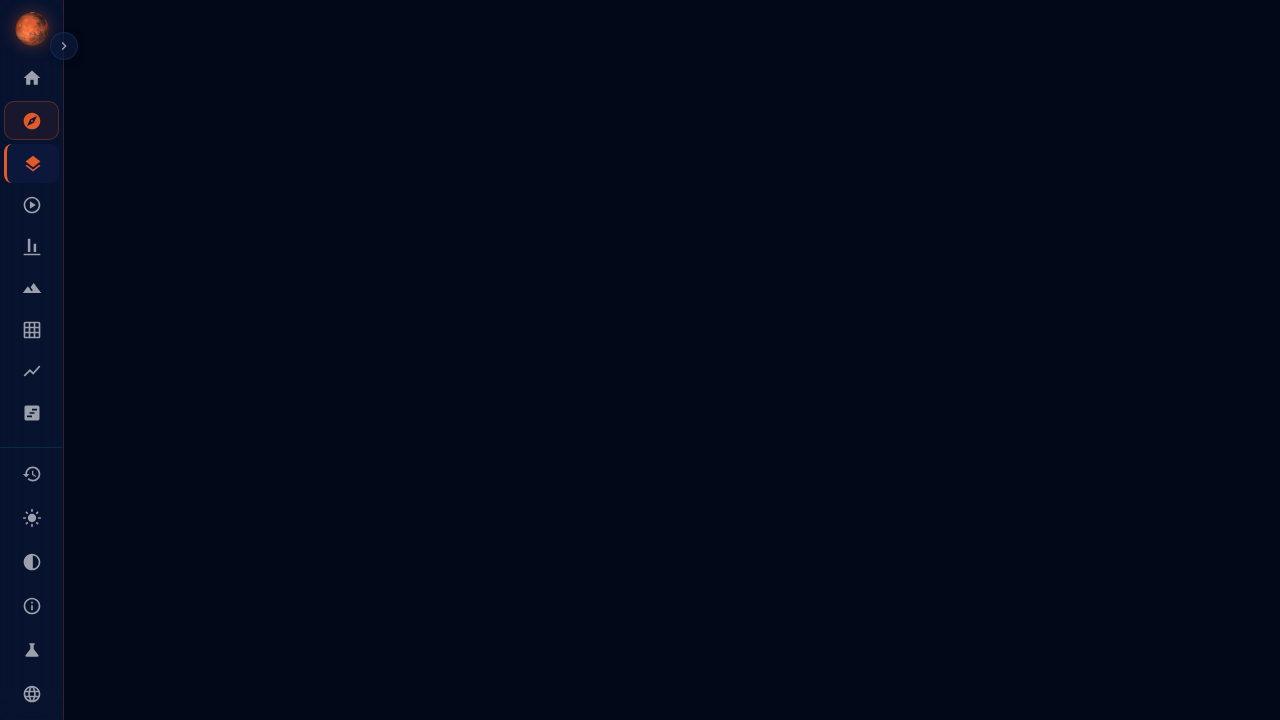
Test: historique dans la barre › ouvre la liste complete depuis la barre repliee
Step 1. Click the button named "Récent" → (32, 474), box [14,456,50,492]
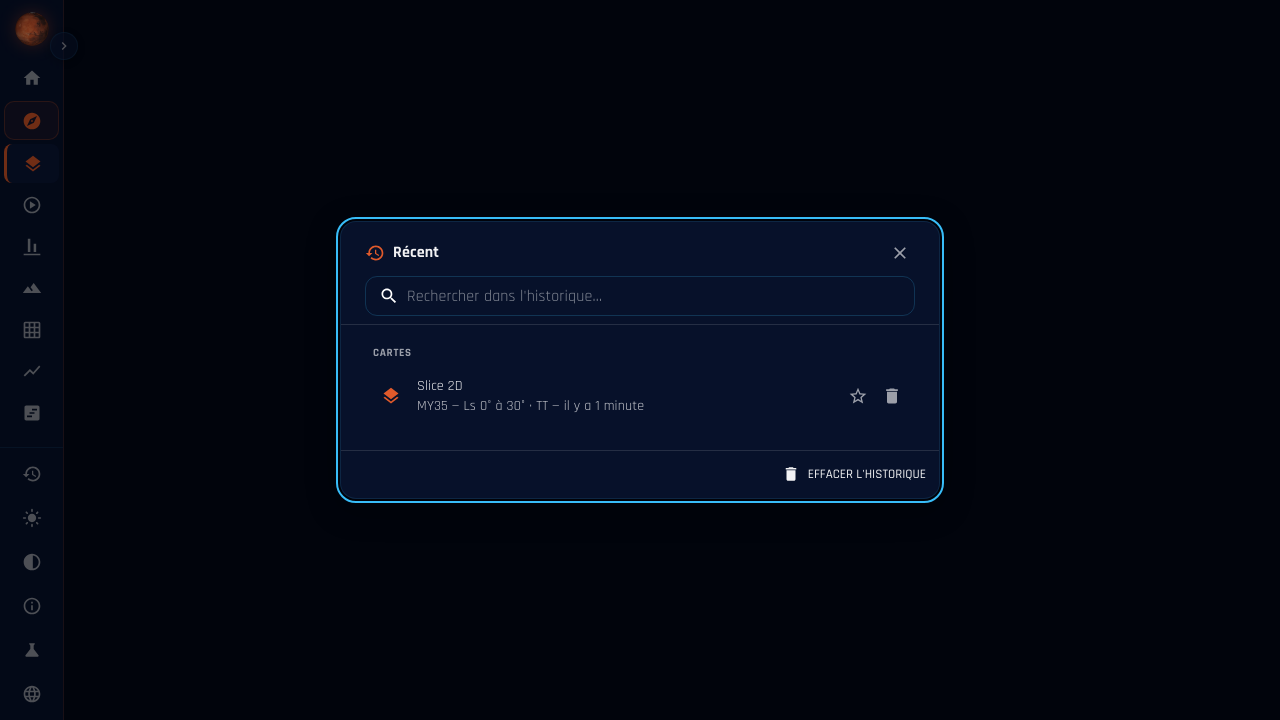
Check: the dialog is shown, box [340,221,940,499]
